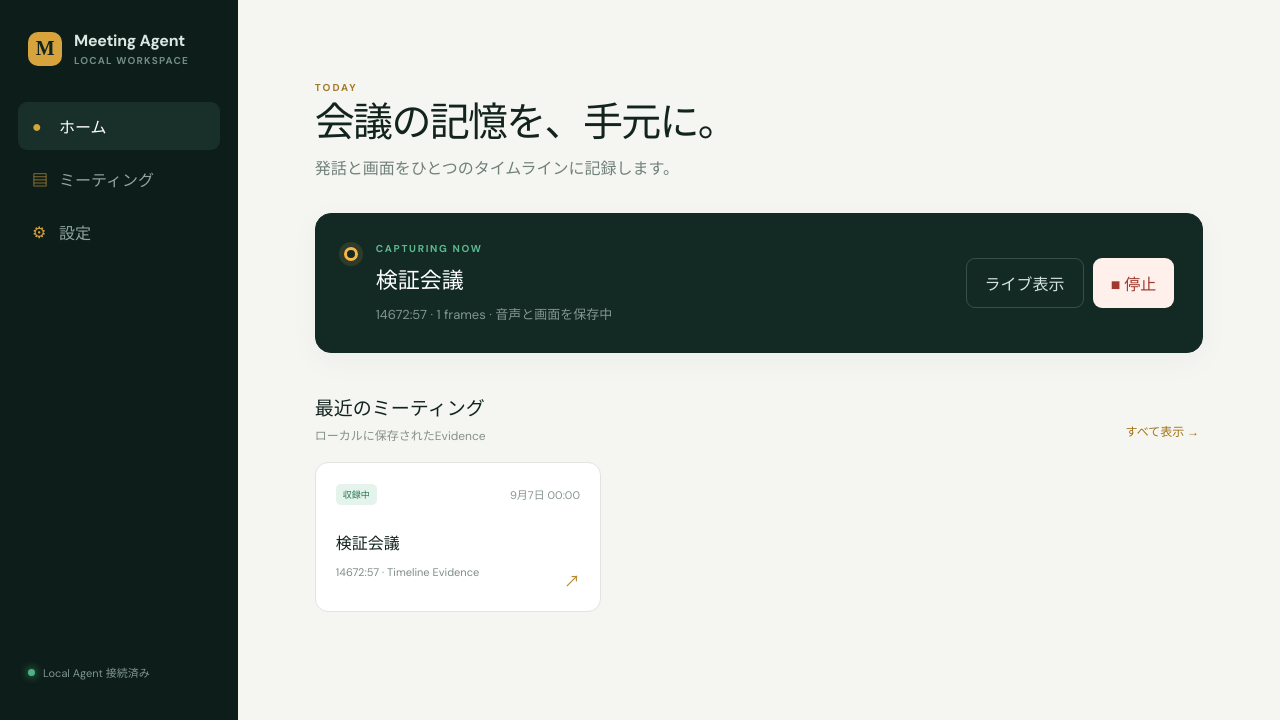
Test: displays capture mutation errors
The image size is (1280, 720).
Click the button "■ 停止".
click(1133, 282)  # box [1093,258,1174,308]
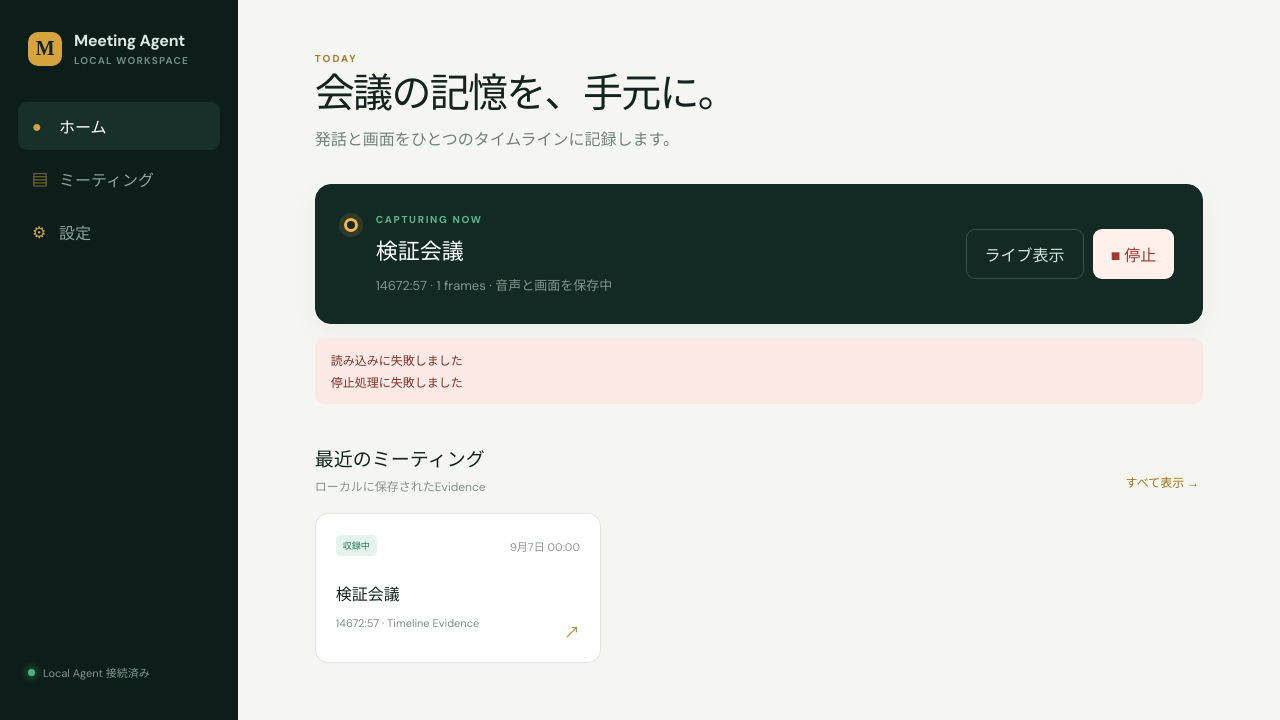
Now the text "停止処理に失敗しました" is shown, box [331,375,463,391]
